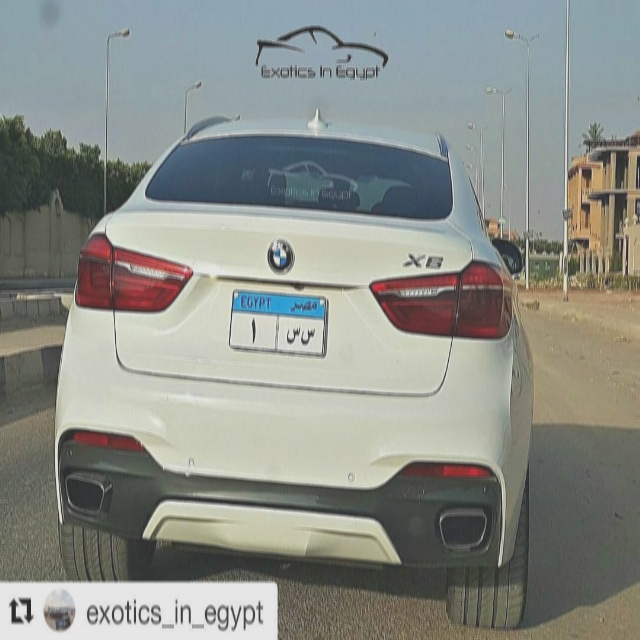License Plate: (228, 287, 329, 360)
